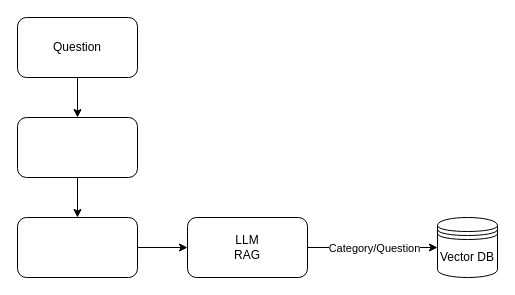
Some shapes in this 515 by 295 pixel diagram are drawn without their labels. Here are the shapes that lost their labels. From the top down, the box of each, then its label:
(16, 116, 138, 178): SLM PII Strip
(16, 216, 138, 278): SLM (Category) BERTTopic
